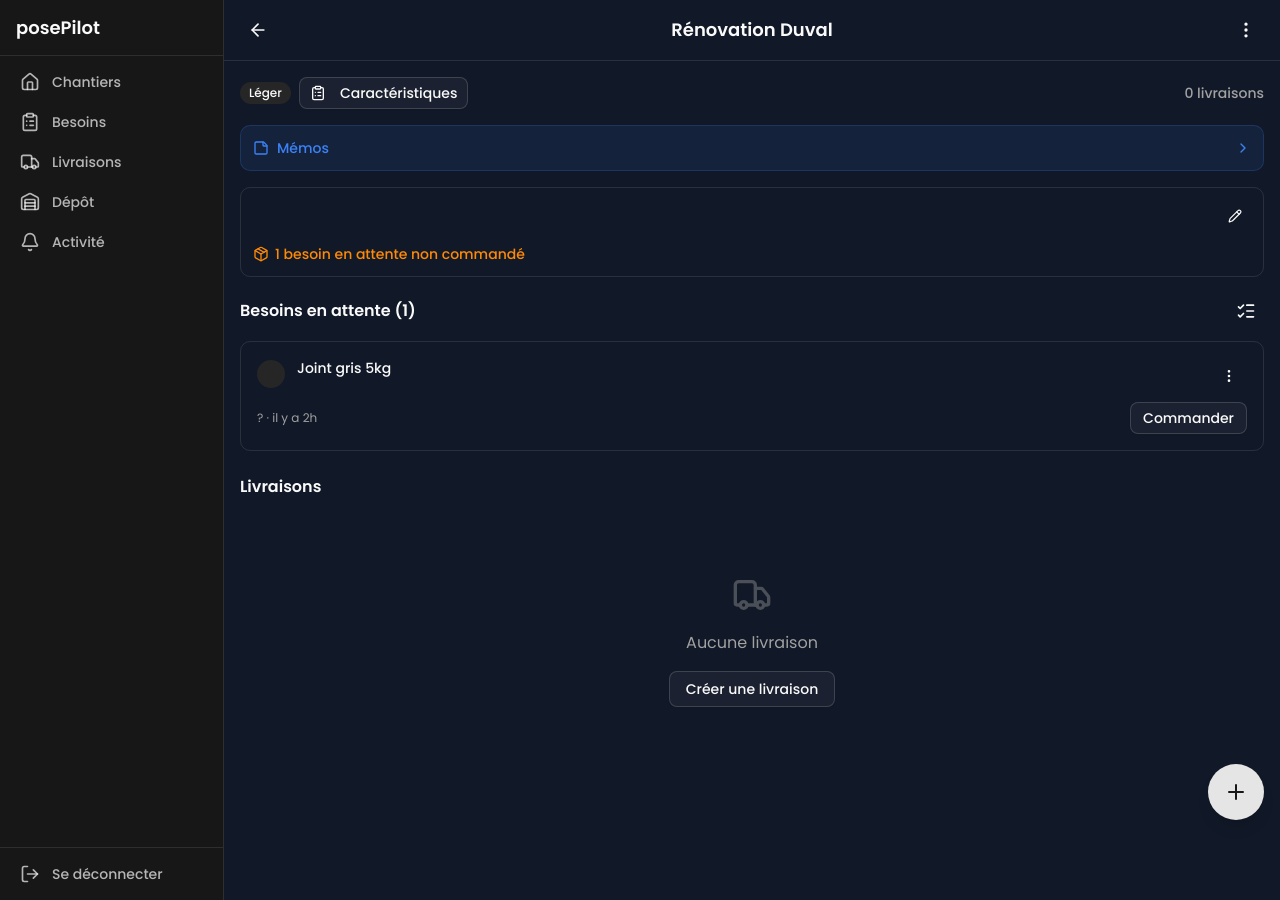
Test: ChantierIndexPage — léger besoin edit/delete › opens edit sheet from DropdownMenu in léger section
Expected: the text "Joint gris 5kg" is shown, [297,358,391,378]
Click the button named "Actions".
click(1229, 376)  # box [1211,358,1247,394]
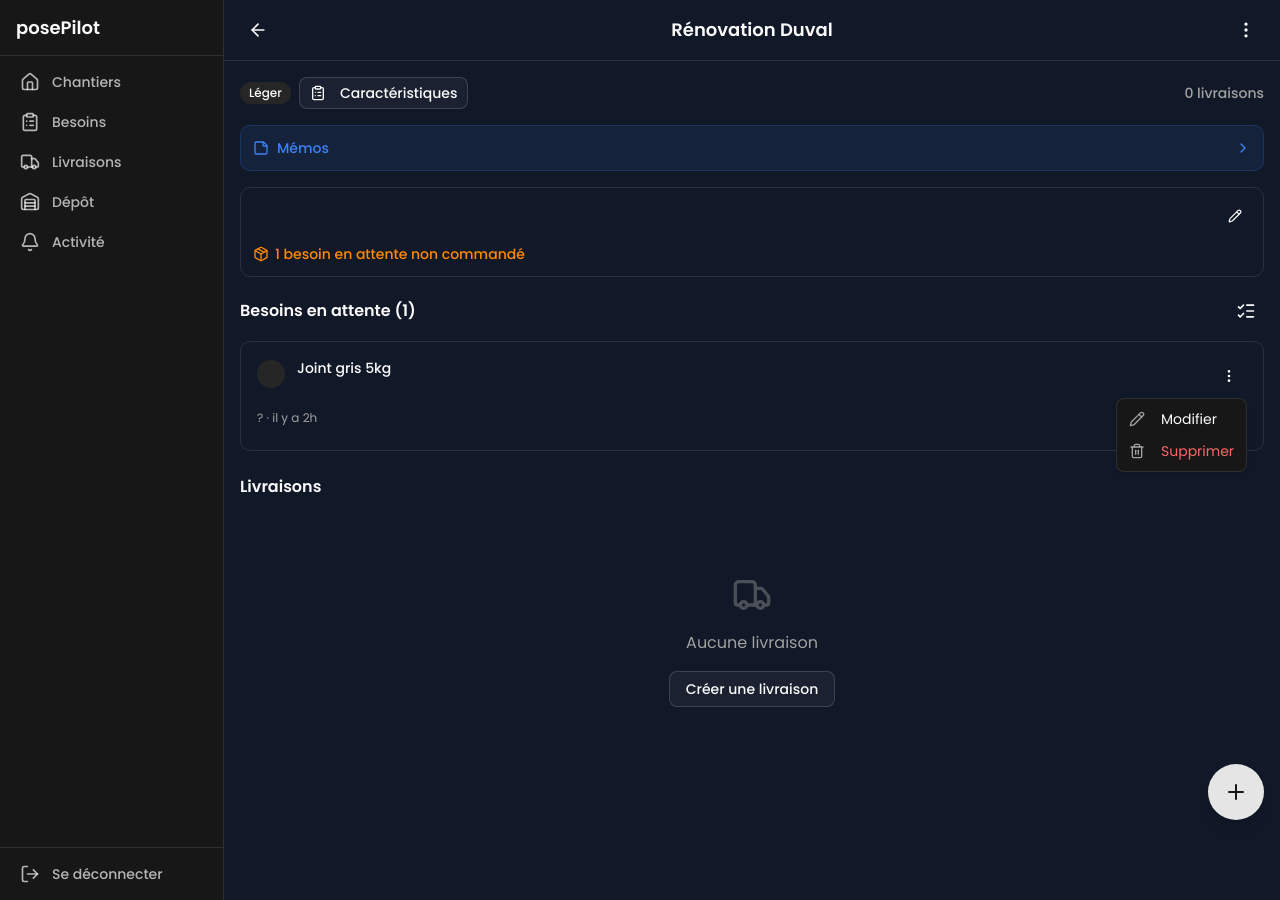
Click the menu item "Modifier".
click(1173, 419)  # box [1129,409,1217,429]
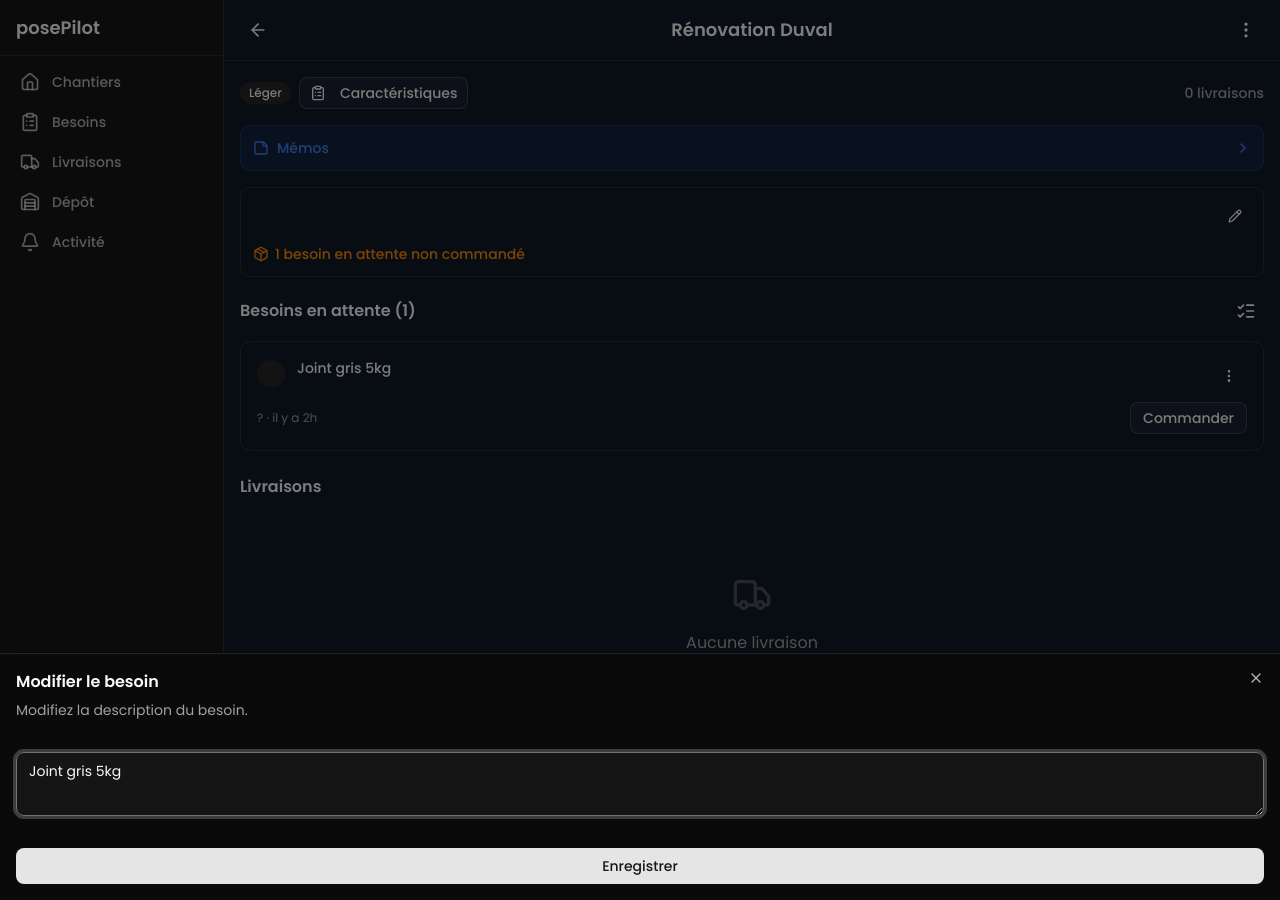
Result: the heading "Modifier le besoin" is shown at [16,670,159,693]
Result: the text box named "Description du besoin (édition)" holds "Joint gris 5kg" at [16,752,1264,816]
